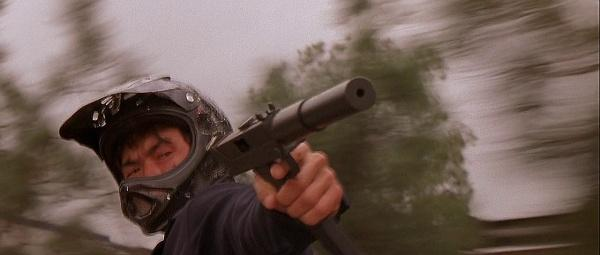Gun: (214, 77, 377, 193)
